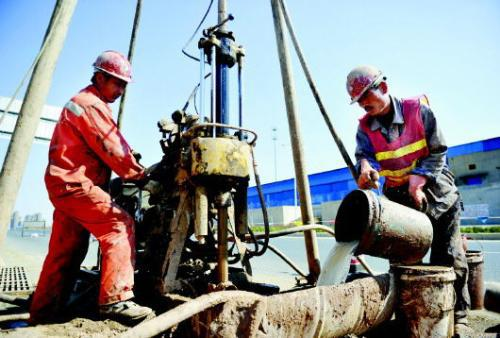helmet: (86, 46, 135, 105), (345, 58, 392, 119)
